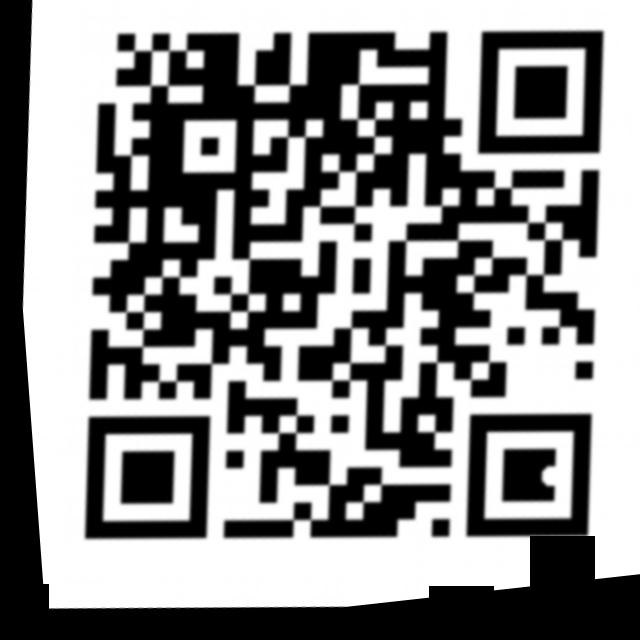QR_CODE: (24, 0, 640, 611)
